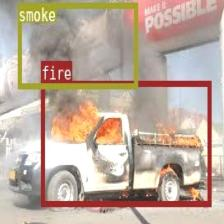fire: (40, 81, 211, 206)
smoke: (17, 3, 137, 88)
